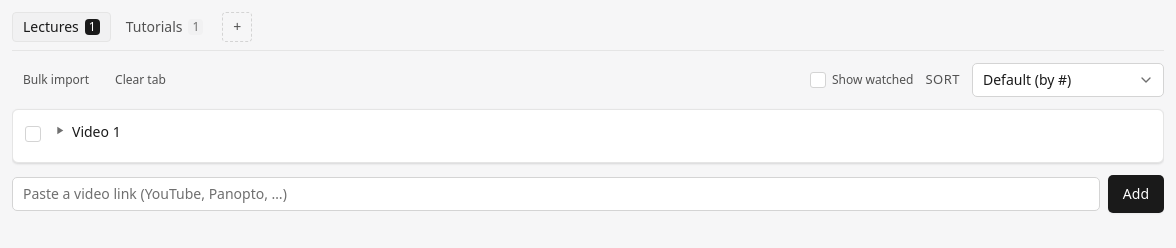
Test: RecordingsTab › switches between sub-tabs
Expected: the text "Video 1" is shown, [72,122,121,142]
Expected: the text "Tutorial 1" is not shown
Click the button "Tutorials 1".
click(164, 27)  # box [115,12,214,42]
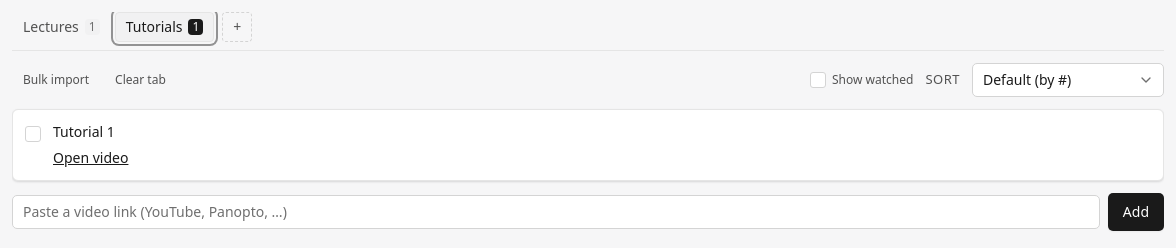
Result: the text "Tutorial 1" is shown at [53,122,115,141]
Result: the button "Video 1" is gone
